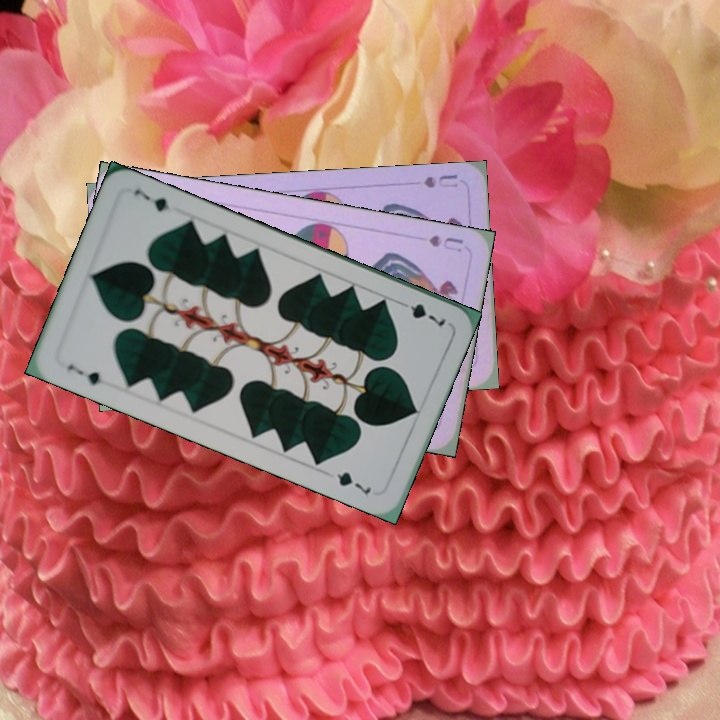G7: (394, 296, 448, 329), (63, 360, 104, 388)
SU: (425, 231, 466, 254), (420, 170, 460, 191)
